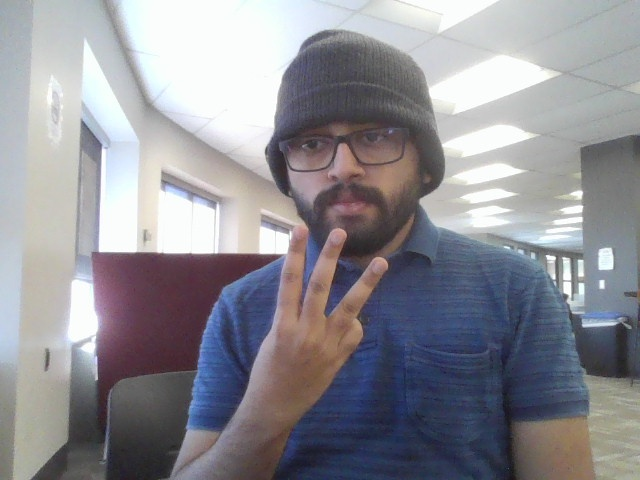start: (249, 218, 390, 433)
